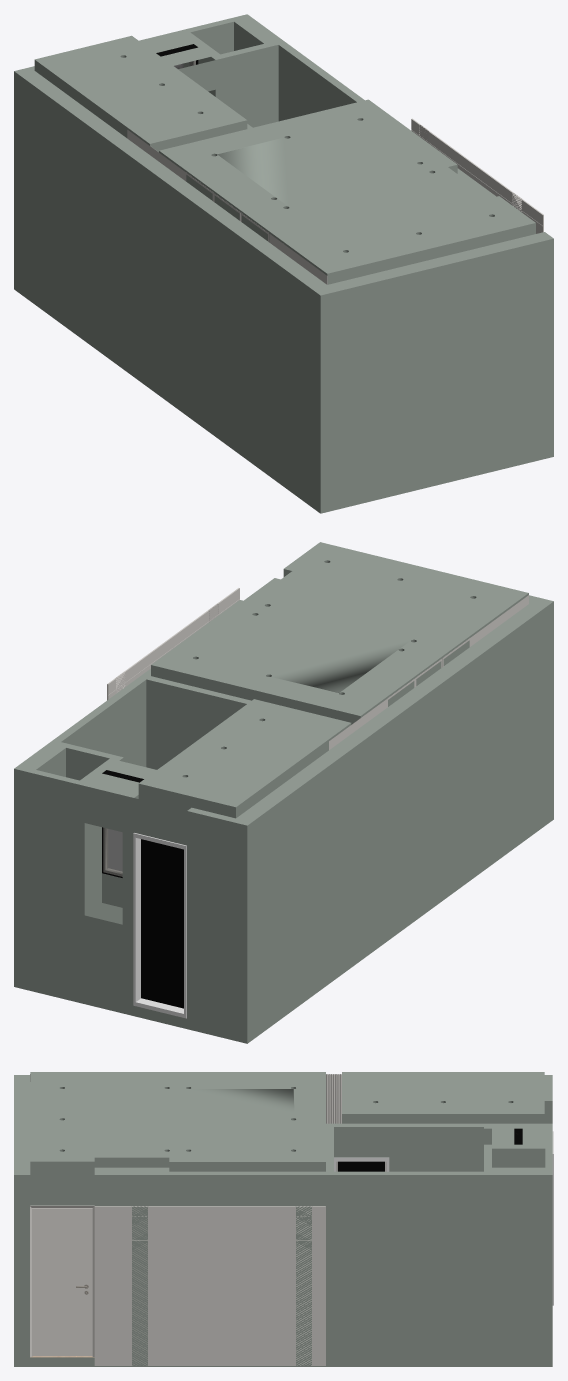
File: bed1.glb
The picture shows the model from 3 angles, top to bottom: view 1: azimuth 30°, elevation 25°; view 2: azimuth 150°, elevation 25°; view 3: azimuth 270°, elevation 25°; orthographic projection. The views are drawn at different scales.
Parts seen in each view (by area): view 1: Group1, Component_11_50; view 2: Group1, G_1_8, Component_11_50, G_3DGeom_1, Group25; view 3: Group1, Component_11_50, Component_6_2, Component_2_1, G_3DGeom_1, G_1_8.
Part boxes in pixels (x1,y1,x2,y2): Group1: (14, 14, 553, 513); Component_11_50: (127, 118, 543, 284); Group1: (14, 542, 553, 1043); G_1_8: (141, 839, 183, 1008); Component_11_50: (107, 588, 528, 749); G_3DGeom_1: (133, 833, 186, 1018); Group25: (108, 829, 122, 871); Group1: (14, 1072, 552, 1366); Component_11_50: (30, 1074, 386, 1365); Component_6_2: (30, 1205, 94, 1356); Component_2_1: (132, 1206, 311, 1365); G_3DGeom_1: (334, 1131, 553, 1305); G_1_8: (338, 1161, 384, 1171).
Bounding box in the file's own units: 3.88 × 3.15 × 7.65.
128 materials, 91 textured.
